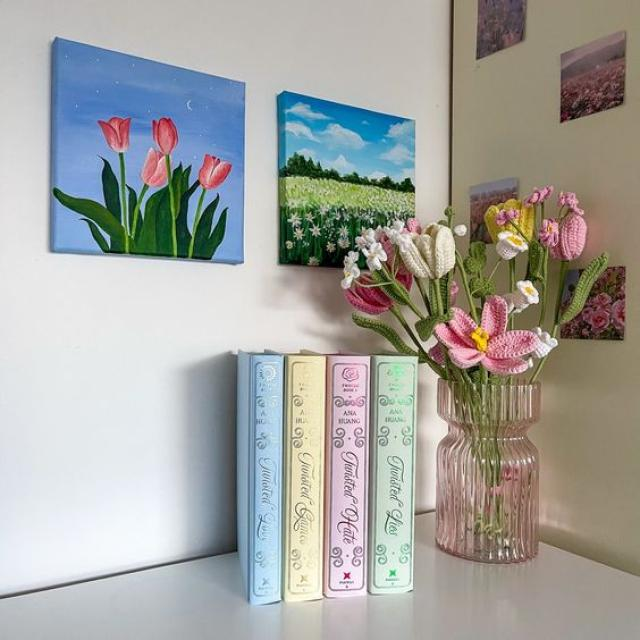book: (238, 353, 284, 604), (368, 356, 416, 593), (323, 356, 369, 597), (283, 356, 325, 601)
flowers: (342, 187, 606, 558)
